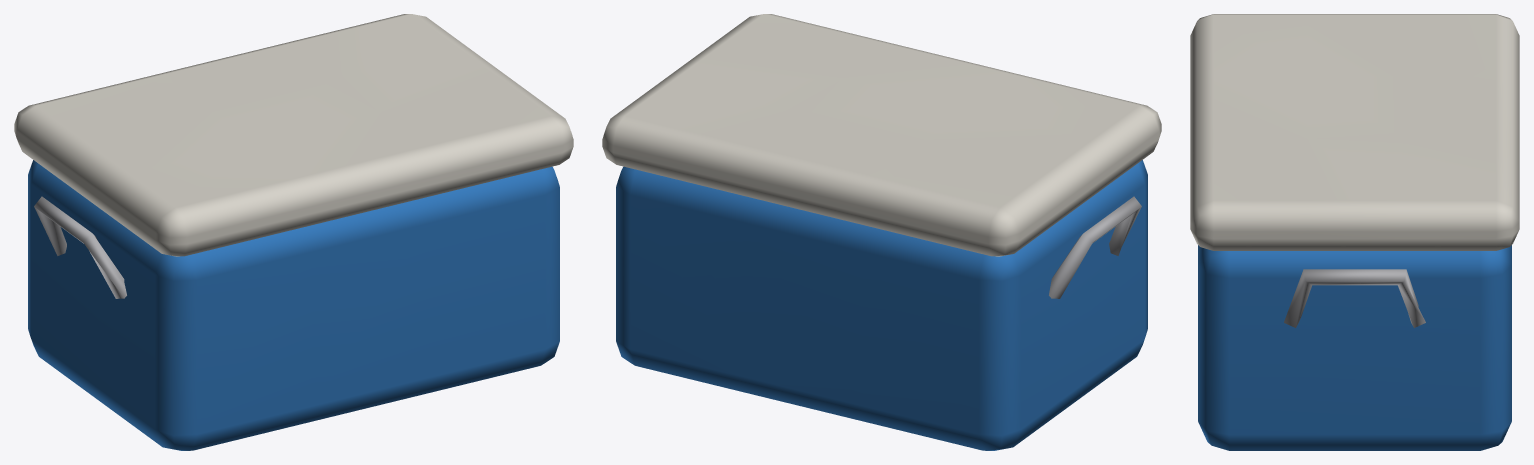
File: furn_od_cooler.glb
The picture shows the model from 3 angles, left to right: view 1: azimuth 30°, elevation 25°; view 2: azimuth 150°, elevation 25°; view 3: azimuth 270°, elevation 25°; orthographic projection.
Parts seen in each view (by area): view 1: furn_od_cooler_main; view 2: furn_od_cooler_main; view 3: furn_od_cooler_main.
Boxes of the visible parts, x1,y1,x2,y2 form: furn_od_cooler_main: [14, 14, 573, 450]; furn_od_cooler_main: [602, 14, 1161, 450]; furn_od_cooler_main: [1190, 14, 1519, 450].
Size of the model in its own units: 0.7031 by 0.36 by 0.42.
